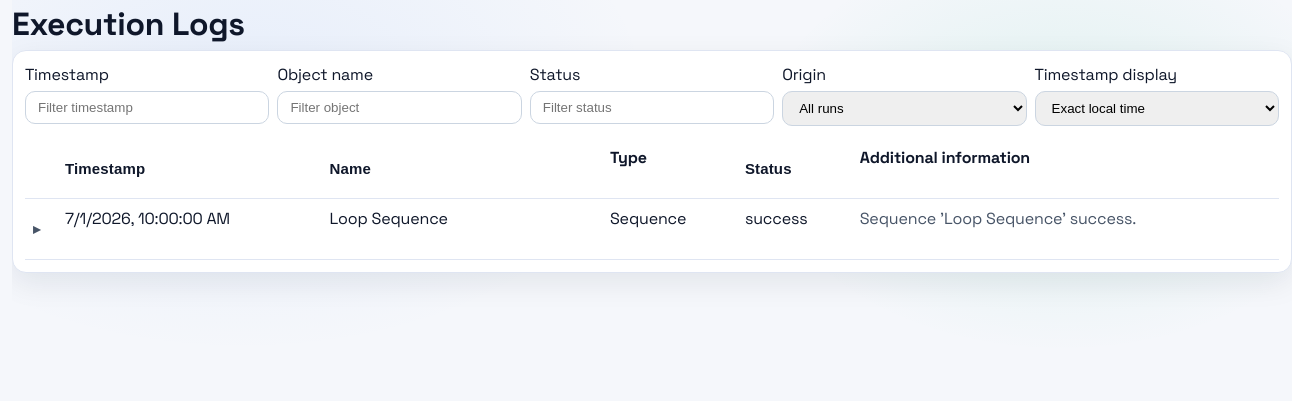
Scenario: ExecutionLogs no_break rendering › renders a distinct neutral "No break" badge, not failure or skipped
Expected: the text "Loop Sequence" is shown, [321, 199, 602, 260]
Step 1. Click the button named "Expand sub-elements" → (37, 229), box [33, 207, 40, 251]
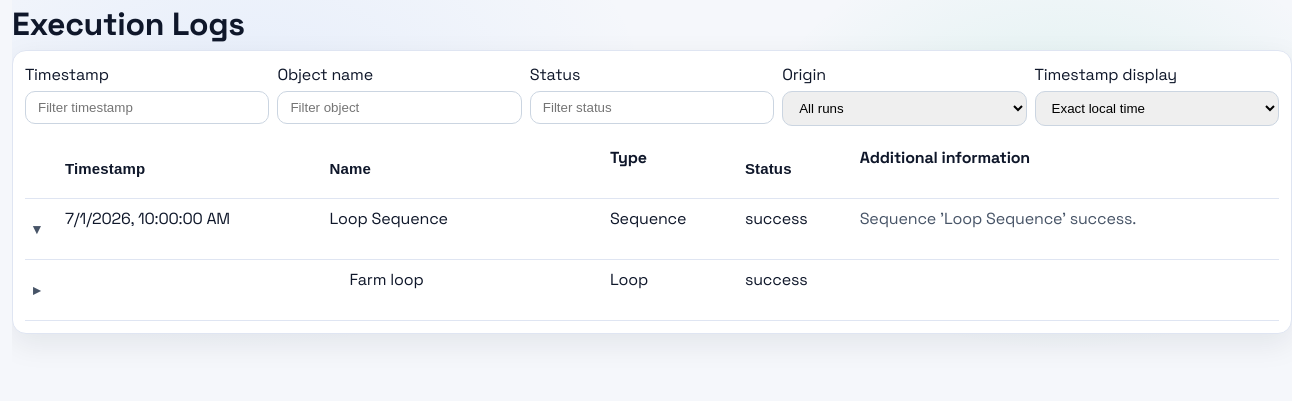
Expected: the text "Farm loop" is shown, [321, 260, 602, 321]
Step 2. Click the button named "Expand sub-elements" → (37, 290), box [33, 268, 40, 312]
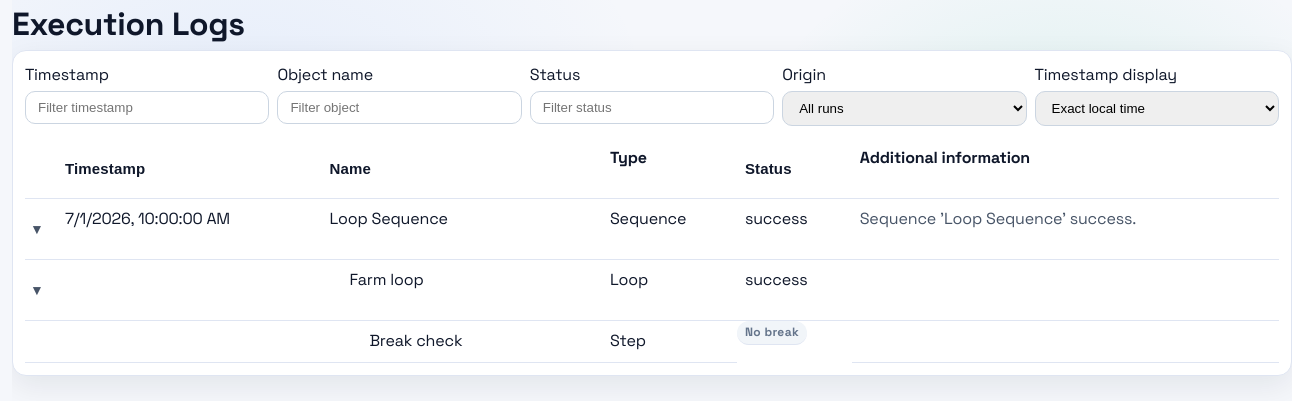
Expected: the text "No break" is shown, [737, 321, 807, 345]
